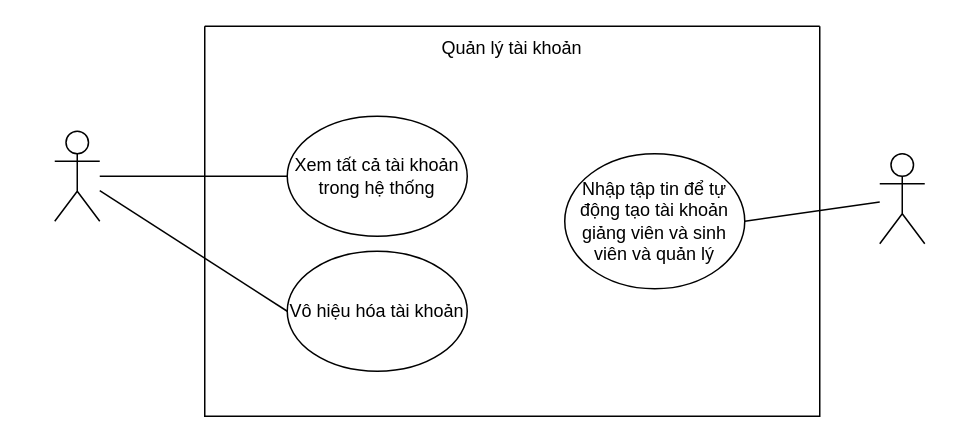
This 968x443 diagram has some shape labels left out. Each missing label, with the centre of its shape:
"Nhân viên" belongs at [901,198].
"Quản trị viên" belongs at [76,175].
